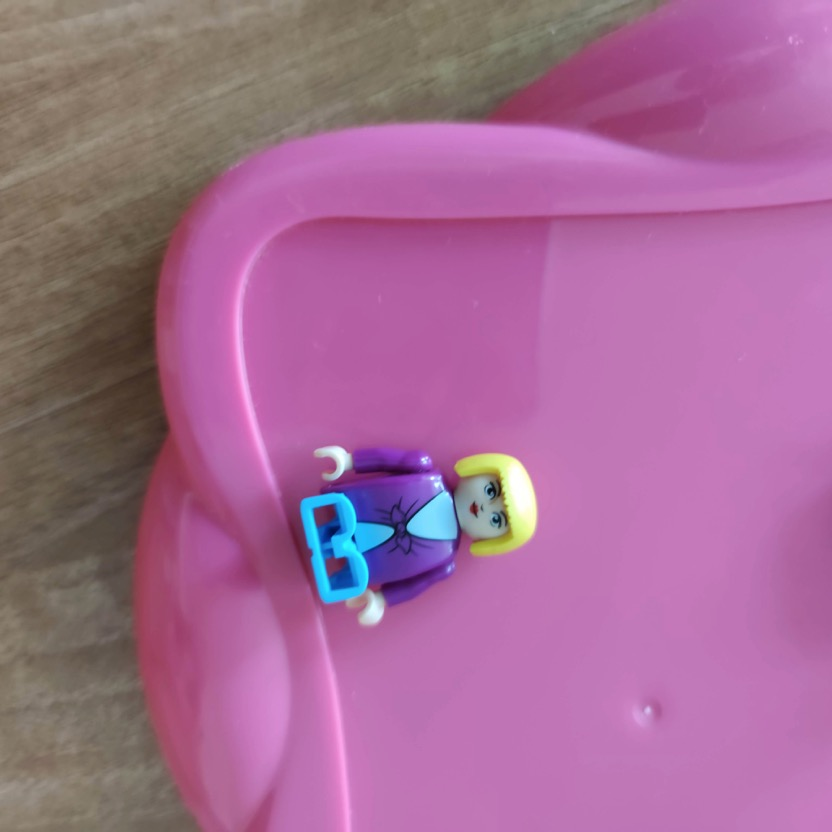lego: (299, 443, 540, 626)
